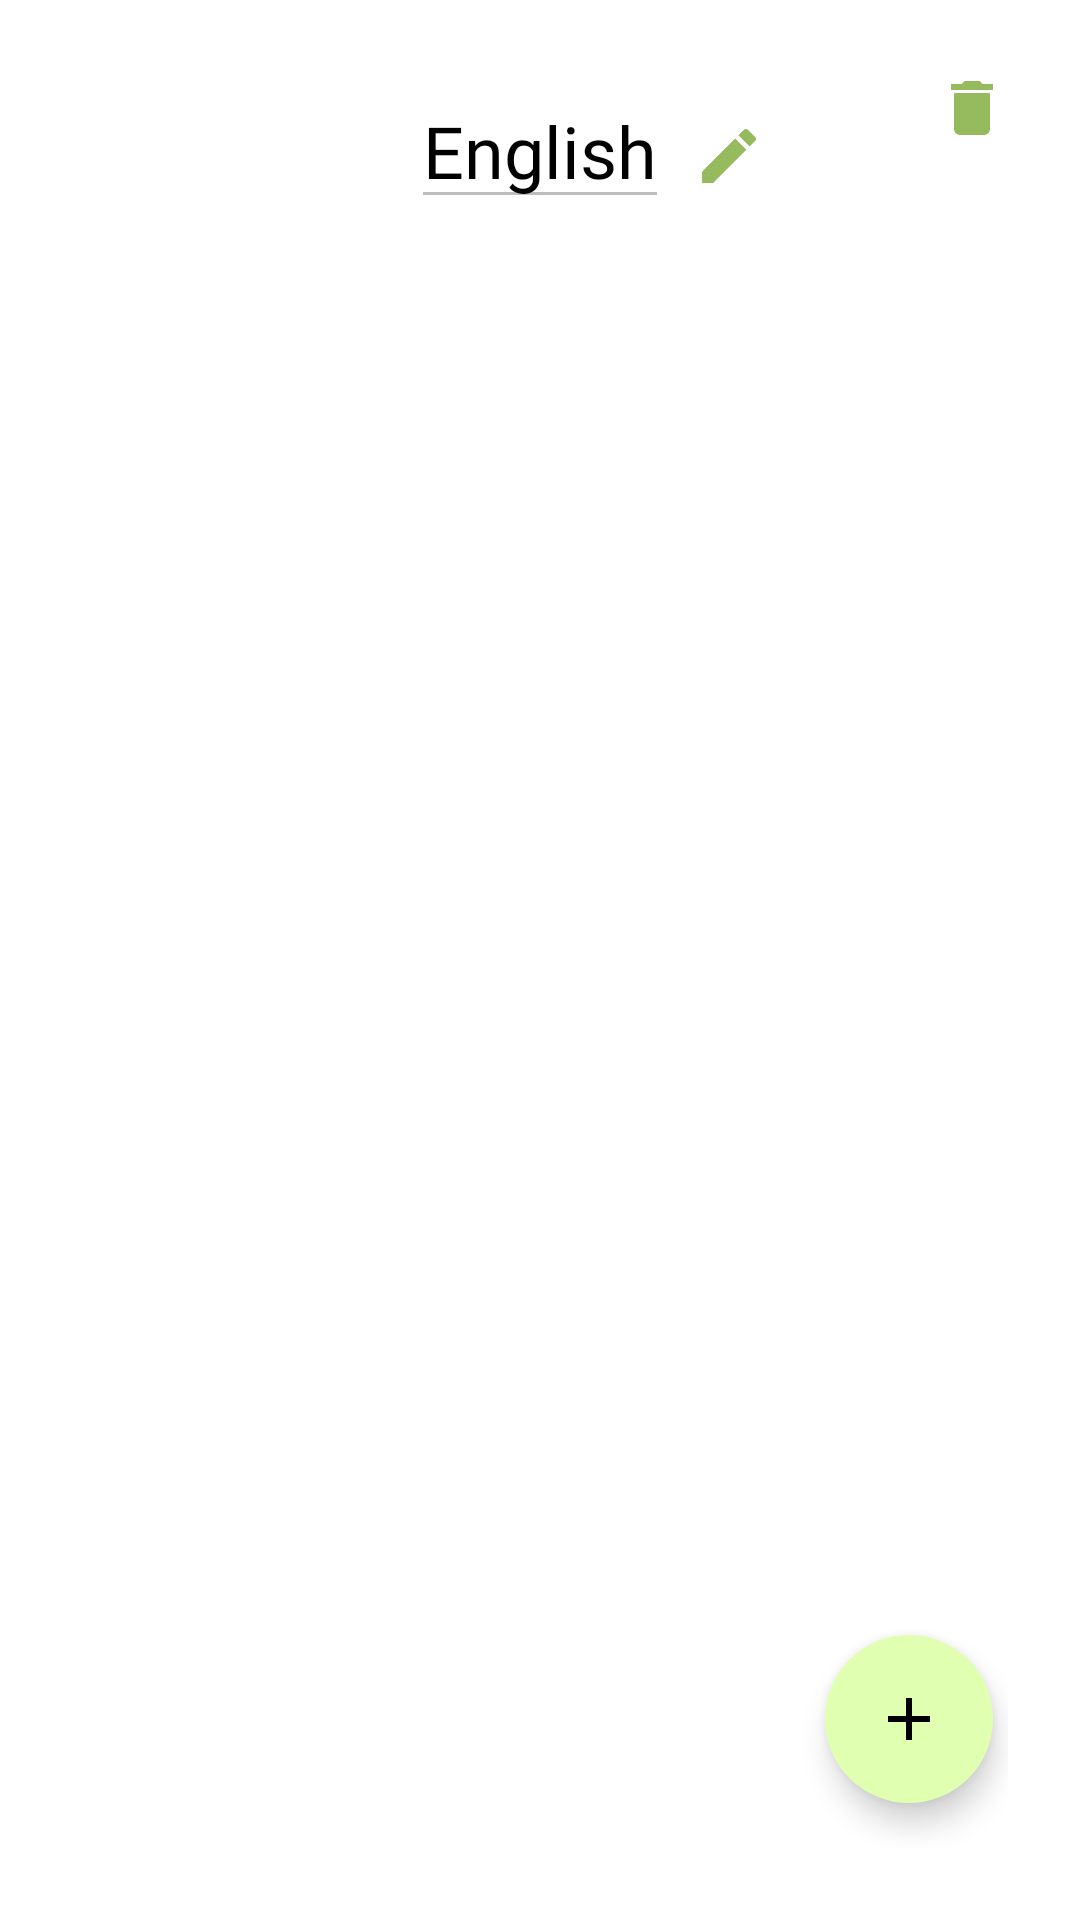

Named icons in this screenshot (1080×1920) and their bounding boxes, (x1, y1, x2, y2):
add: (825, 1635, 993, 1803)
delete: (951, 81, 993, 135)
edit: (702, 129, 756, 183)
